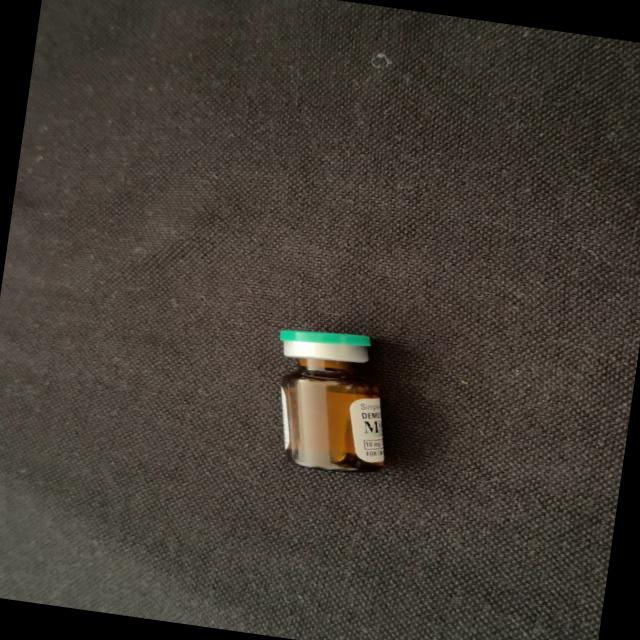midazolm: (265, 325, 401, 475)
